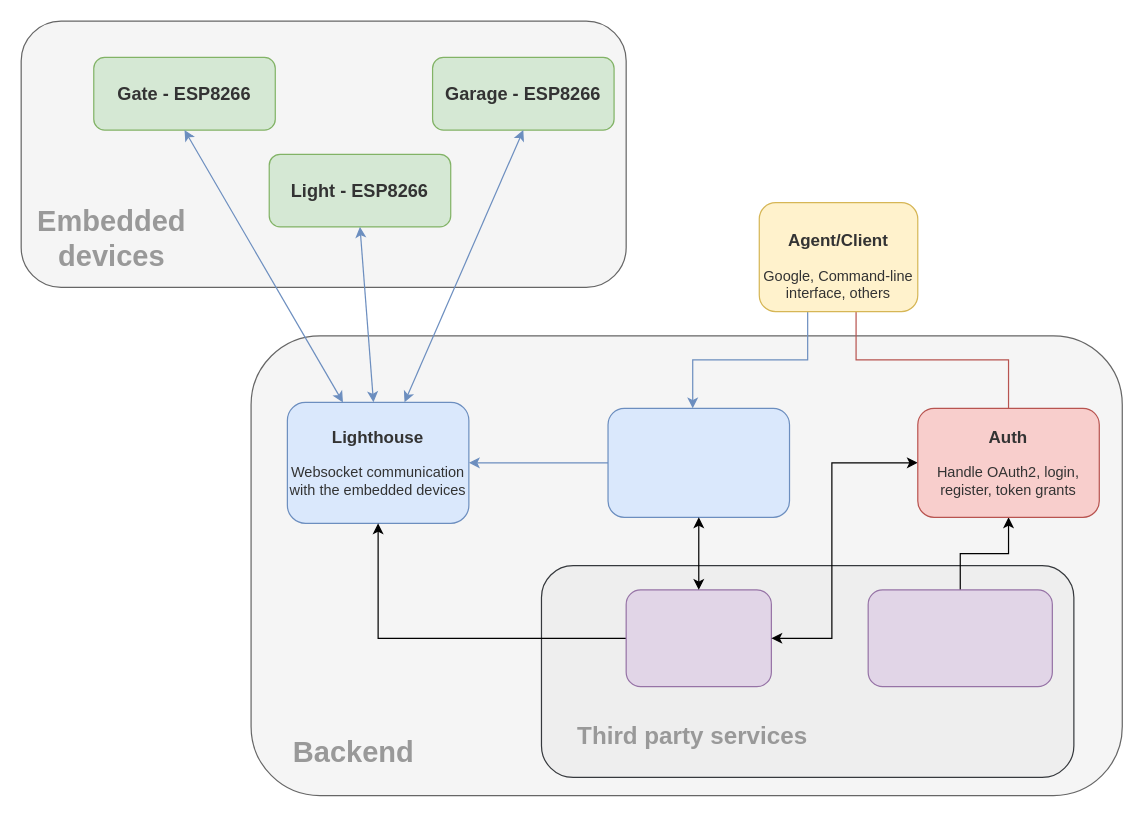
Image size: 1143x817. Some labels were removed from this diagram. The shapes that lost their labels are listed below. From the top down, each one's box as (x1, y1, x2, y2) in pixels, then its label:
(607, 407, 790, 517): Fulfillment Execute command on device, query state, sync available devices
(625, 589, 771, 687): PostgreSQL Users, devices, permissions
(867, 589, 1052, 687): Redis Store refresh tokens, it is convenient for token invalidation
